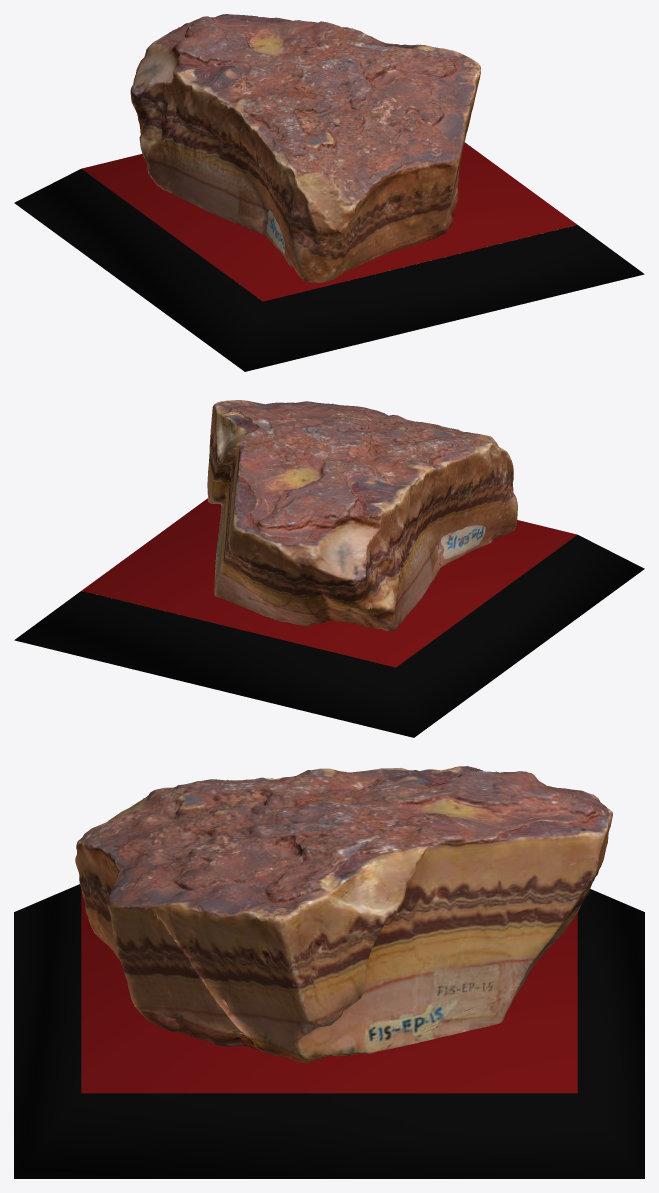
File: Pliegues_Sinsedimentarios.glb
The picture shows the model from 3 angles, top to bottom: view 1: azimuth 30°, elevation 25°; view 2: azimuth 150°, elevation 25°; view 3: azimuth 270°, elevation 25°; orthographic projection. The views are drawn at different scales.
Parts seen in each view (by area): view 1: SEdi; view 2: SEdi; view 3: SEdi.
Boxes of the visible parts, bbox=[...] form: SEdi: bbox=[14, 14, 644, 371]; SEdi: bbox=[14, 400, 644, 737]; SEdi: bbox=[14, 766, 644, 1178].
Size of the model in its own units: 10 by 4.17 by 10.
Materials: 4 (2 with a texture image).
